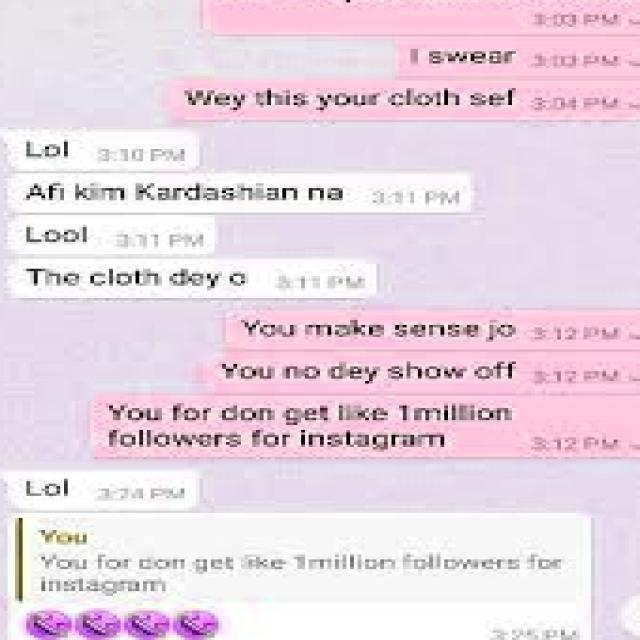scam: (18, 252, 274, 300), (22, 176, 344, 210), (15, 598, 245, 640), (8, 130, 184, 171), (10, 220, 116, 260), (12, 470, 92, 512)
